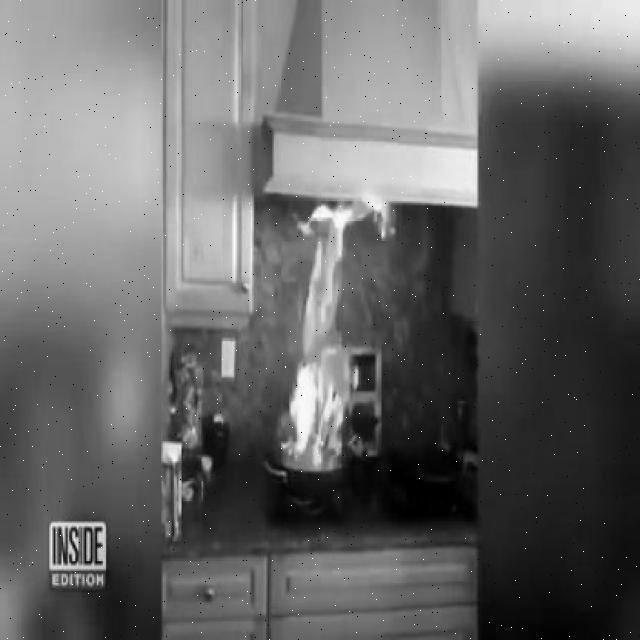smoke: (288, 170, 359, 467)
